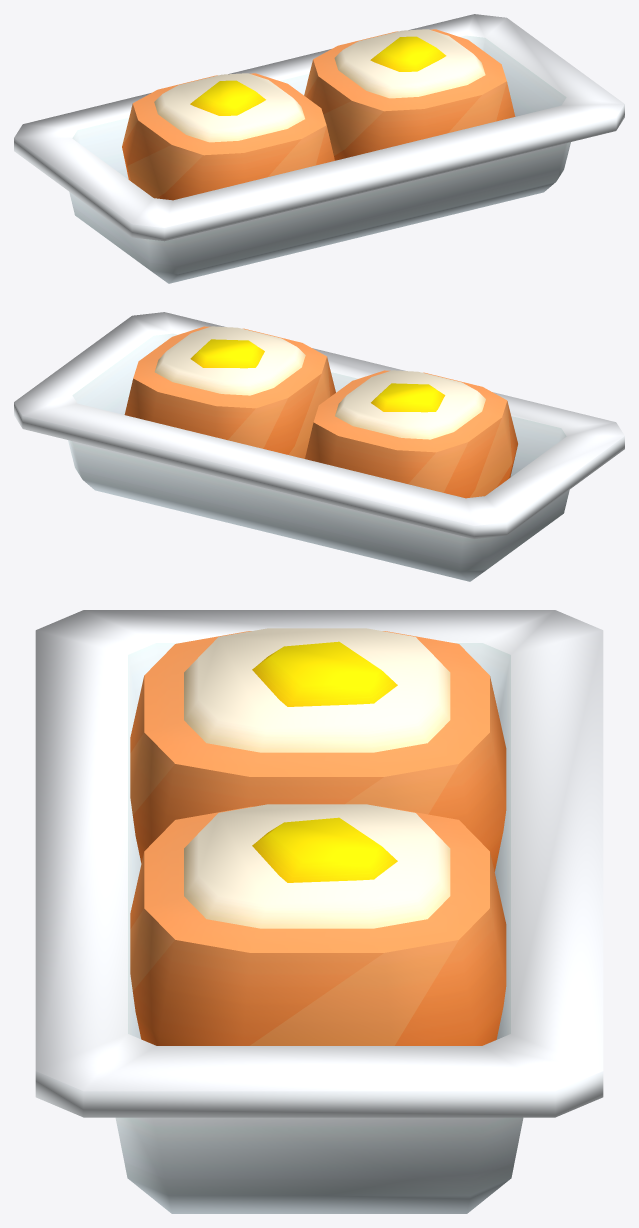
Rendered from Set_1_002.gltf.
3 views of the same model, one above another, from view 1: azimuth 30°, elevation 25°; view 2: azimuth 150°, elevation 25°; view 3: azimuth 270°, elevation 25° (orthographic). The views are drawn at different scales.
Parts seen in each view (by area): view 1: Box_Plastic_White_Small_001.003, Sushi_Small_Salmon_002.001, Sushi_Small_Salmon_002.004; view 2: Box_Plastic_White_Small_001.003, Sushi_Small_Salmon_002.001, Sushi_Small_Salmon_002.004; view 3: Box_Plastic_White_Small_001.003, Sushi_Small_Salmon_002.004, Sushi_Small_Salmon_002.001.
Part boxes in pixels (x1,y1,x2,y2): Box_Plastic_White_Small_001.003: [14, 14, 624, 283]; Sushi_Small_Salmon_002.001: [122, 73, 334, 200]; Sushi_Small_Salmon_002.004: [304, 29, 515, 160]; Box_Plastic_White_Small_001.003: [14, 312, 624, 581]; Sushi_Small_Salmon_002.001: [305, 370, 517, 498]; Sushi_Small_Salmon_002.004: [124, 326, 335, 458]; Box_Plastic_White_Small_001.003: [35, 610, 603, 1213]; Sushi_Small_Salmon_002.004: [130, 804, 506, 1045]; Sushi_Small_Salmon_002.001: [130, 628, 506, 871].
Size of the model in its own units: 2 by 0.5403 by 0.9973.
Materials: 1 (1 with a texture image).
